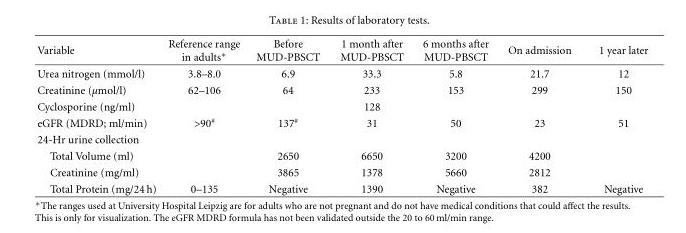table: (36, 37, 647, 194)
table column: (36, 37, 161, 194), (497, 37, 584, 194), (161, 37, 247, 194), (412, 37, 497, 194), (329, 37, 412, 194), (247, 37, 329, 194), (584, 37, 647, 194)
table column header: (36, 37, 647, 64)
table projected row header: (36, 131, 647, 147)
table row: (36, 37, 647, 64), (36, 64, 647, 81), (36, 81, 647, 98), (36, 114, 647, 131), (36, 163, 647, 180), (36, 98, 647, 114), (36, 131, 647, 147), (36, 147, 647, 163), (36, 180, 647, 194)
